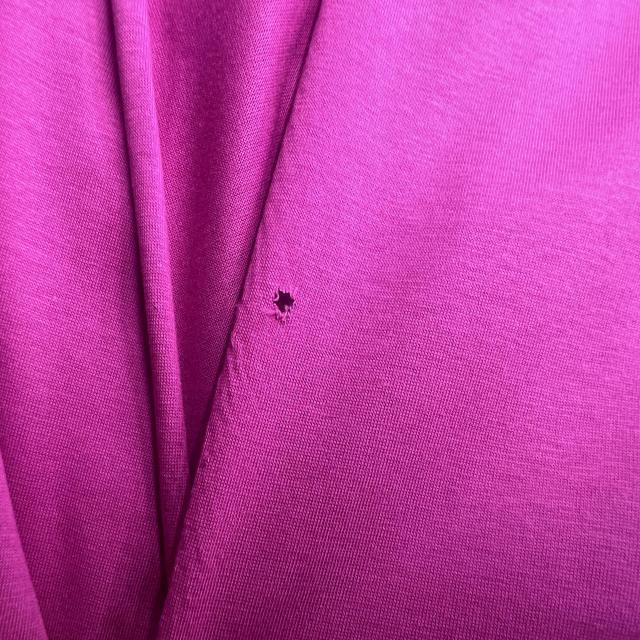seam: (260, 268, 328, 348)
